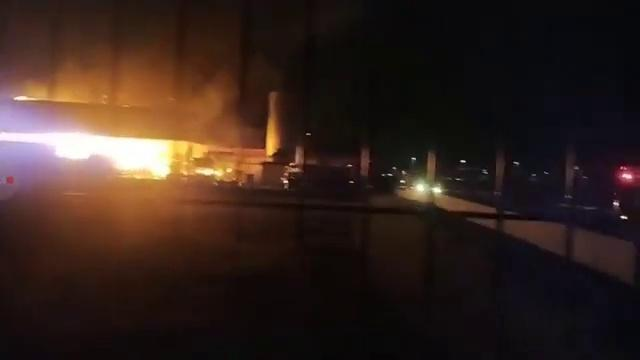fire: (112, 139, 165, 172), (56, 135, 95, 161)
